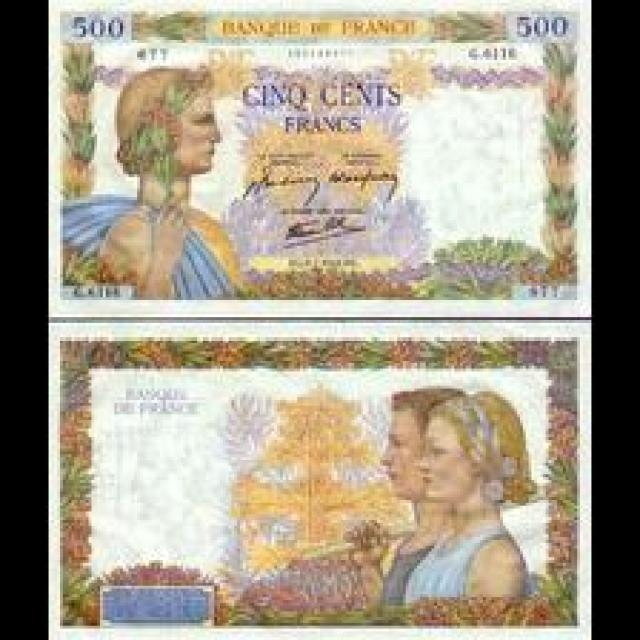banknote: (48, 322, 590, 636), (51, 0, 592, 309), (62, 10, 132, 44), (512, 9, 572, 43)
